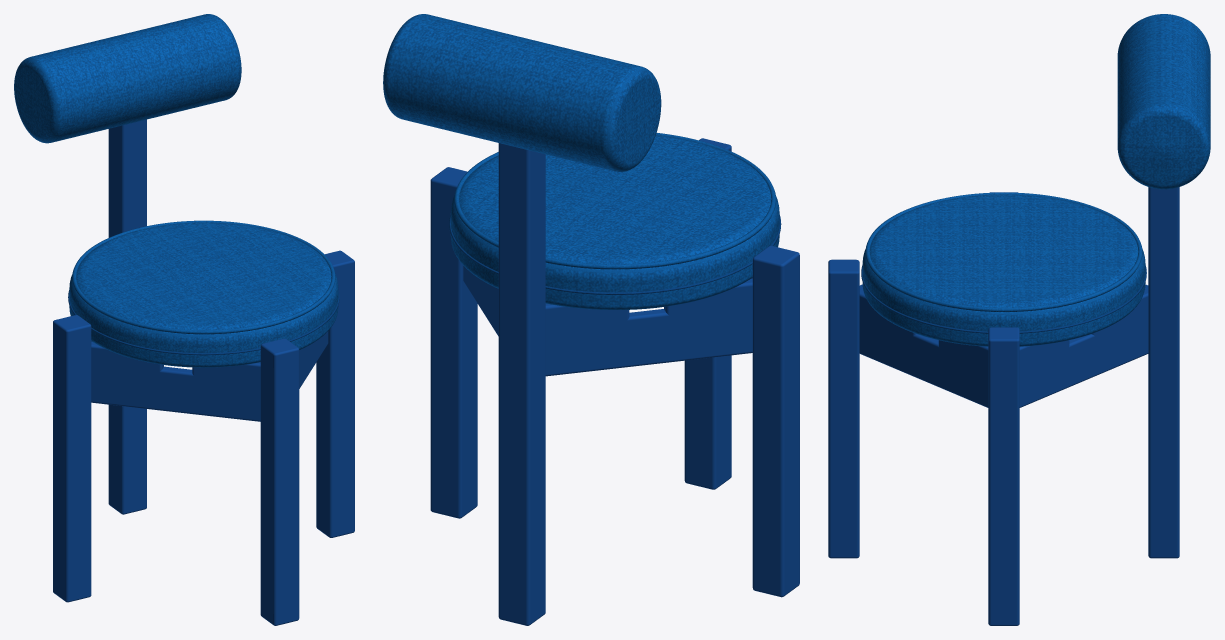
The model's file is chair-003-textured.glb.
3 views of the same model, side by side, from view 1: azimuth 30°, elevation 25°; view 2: azimuth 150°, elevation 25°; view 3: azimuth 270°, elevation 25° (orthographic). The views are drawn at different scales.
Visible parts, largest first — view 1: seat, roll, legFront, legRight, legLeft, boardFR, backPost, boardFL; view 2: seat, roll, backPost, legRight, legLeft, boardBR, legFront, boardBL; view 3: seat, roll, backPost, legFront, legLeft, boardFL, boardBL.
Boxes of the visible parts, box(x1,y1,x2,y2) form: seat: box(68, 220, 339, 367); roll: box(14, 14, 241, 143); legFront: box(260, 338, 299, 625); legRight: box(53, 315, 91, 602); legLeft: box(316, 250, 354, 537); boardFR: box(91, 341, 260, 421); backPost: box(108, 119, 146, 514); boardFL: box(299, 331, 328, 388); seat: box(449, 133, 781, 309); roll: box(383, 14, 661, 171); backPost: box(498, 143, 545, 625); legRight: box(752, 245, 799, 597); legLeft: box(430, 167, 477, 518); boardBR: box(545, 278, 752, 376); legFront: box(684, 138, 731, 489); boardBL: box(463, 266, 498, 336); seat: box(861, 192, 1146, 346); roll: box(1117, 14, 1210, 189); backPost: box(1148, 187, 1179, 558); legFront: box(828, 259, 859, 558); legLeft: box(988, 327, 1019, 625); boardFL: box(859, 289, 988, 407); boardBL: box(1019, 289, 1148, 407).
Size of the model in its own units: 0.472 by 0.7305 by 0.5135.
10 materials, 2 textured.
